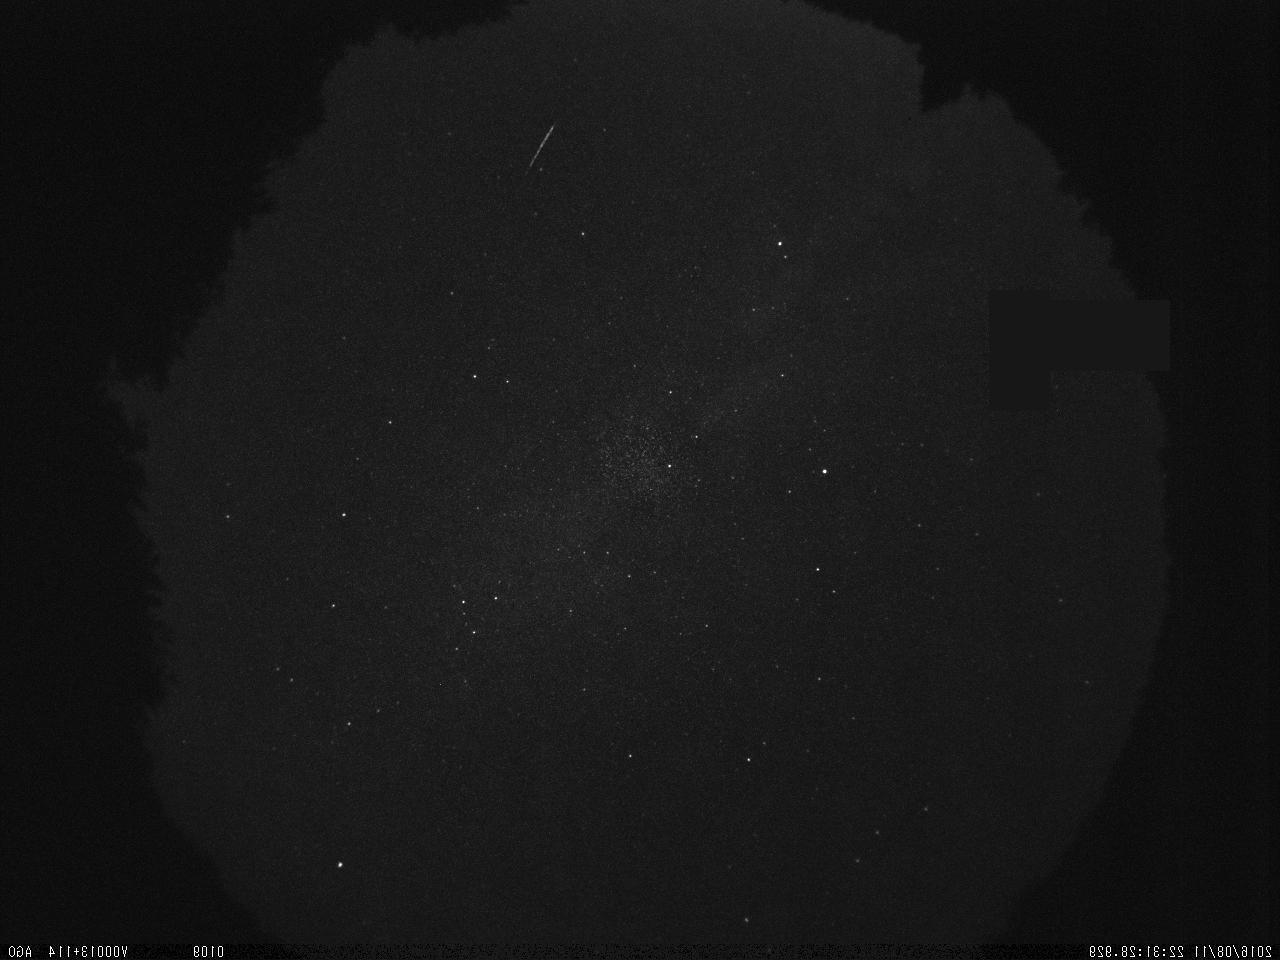meteor: (521, 116, 559, 175)
